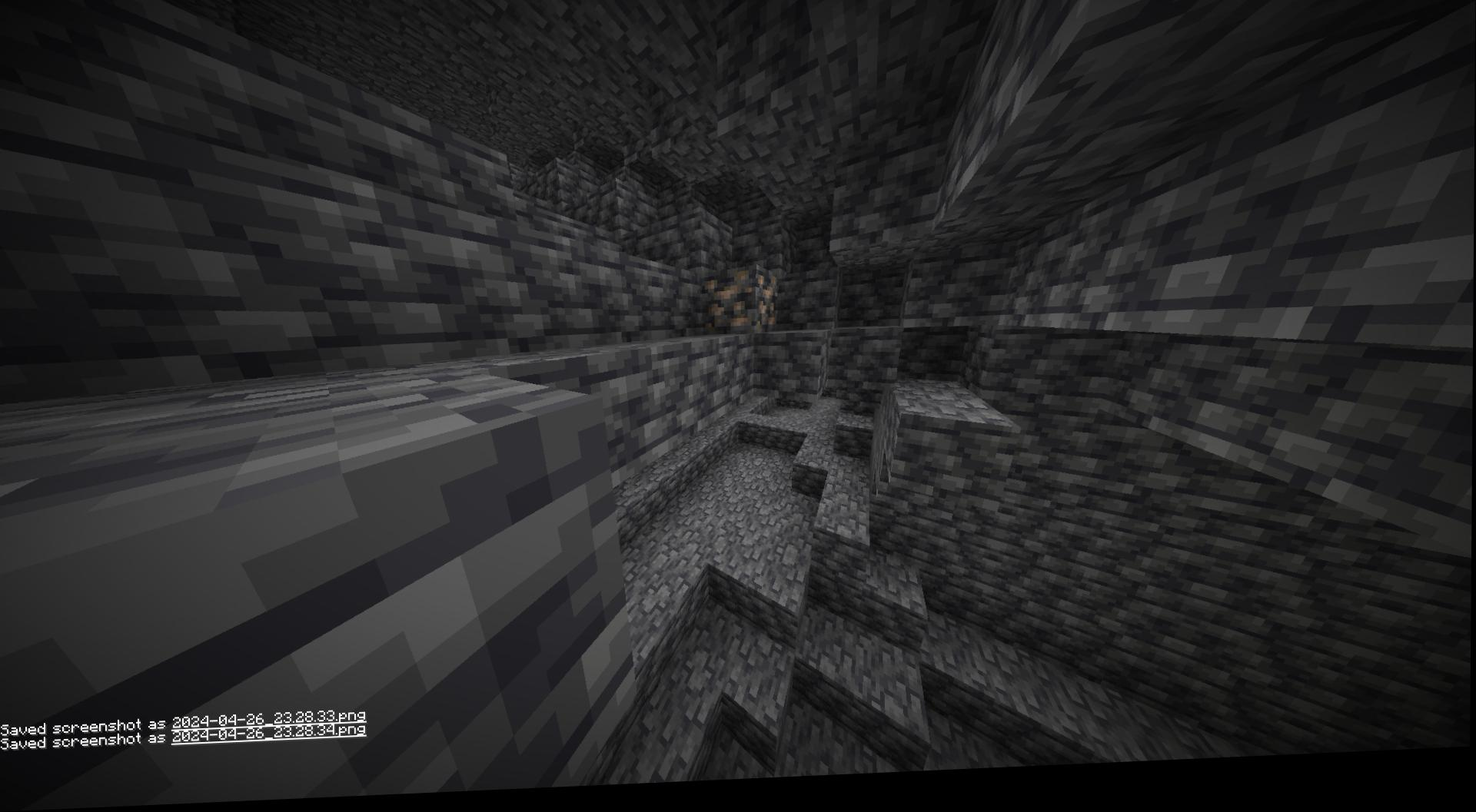iron ore: (695, 269, 781, 346)
